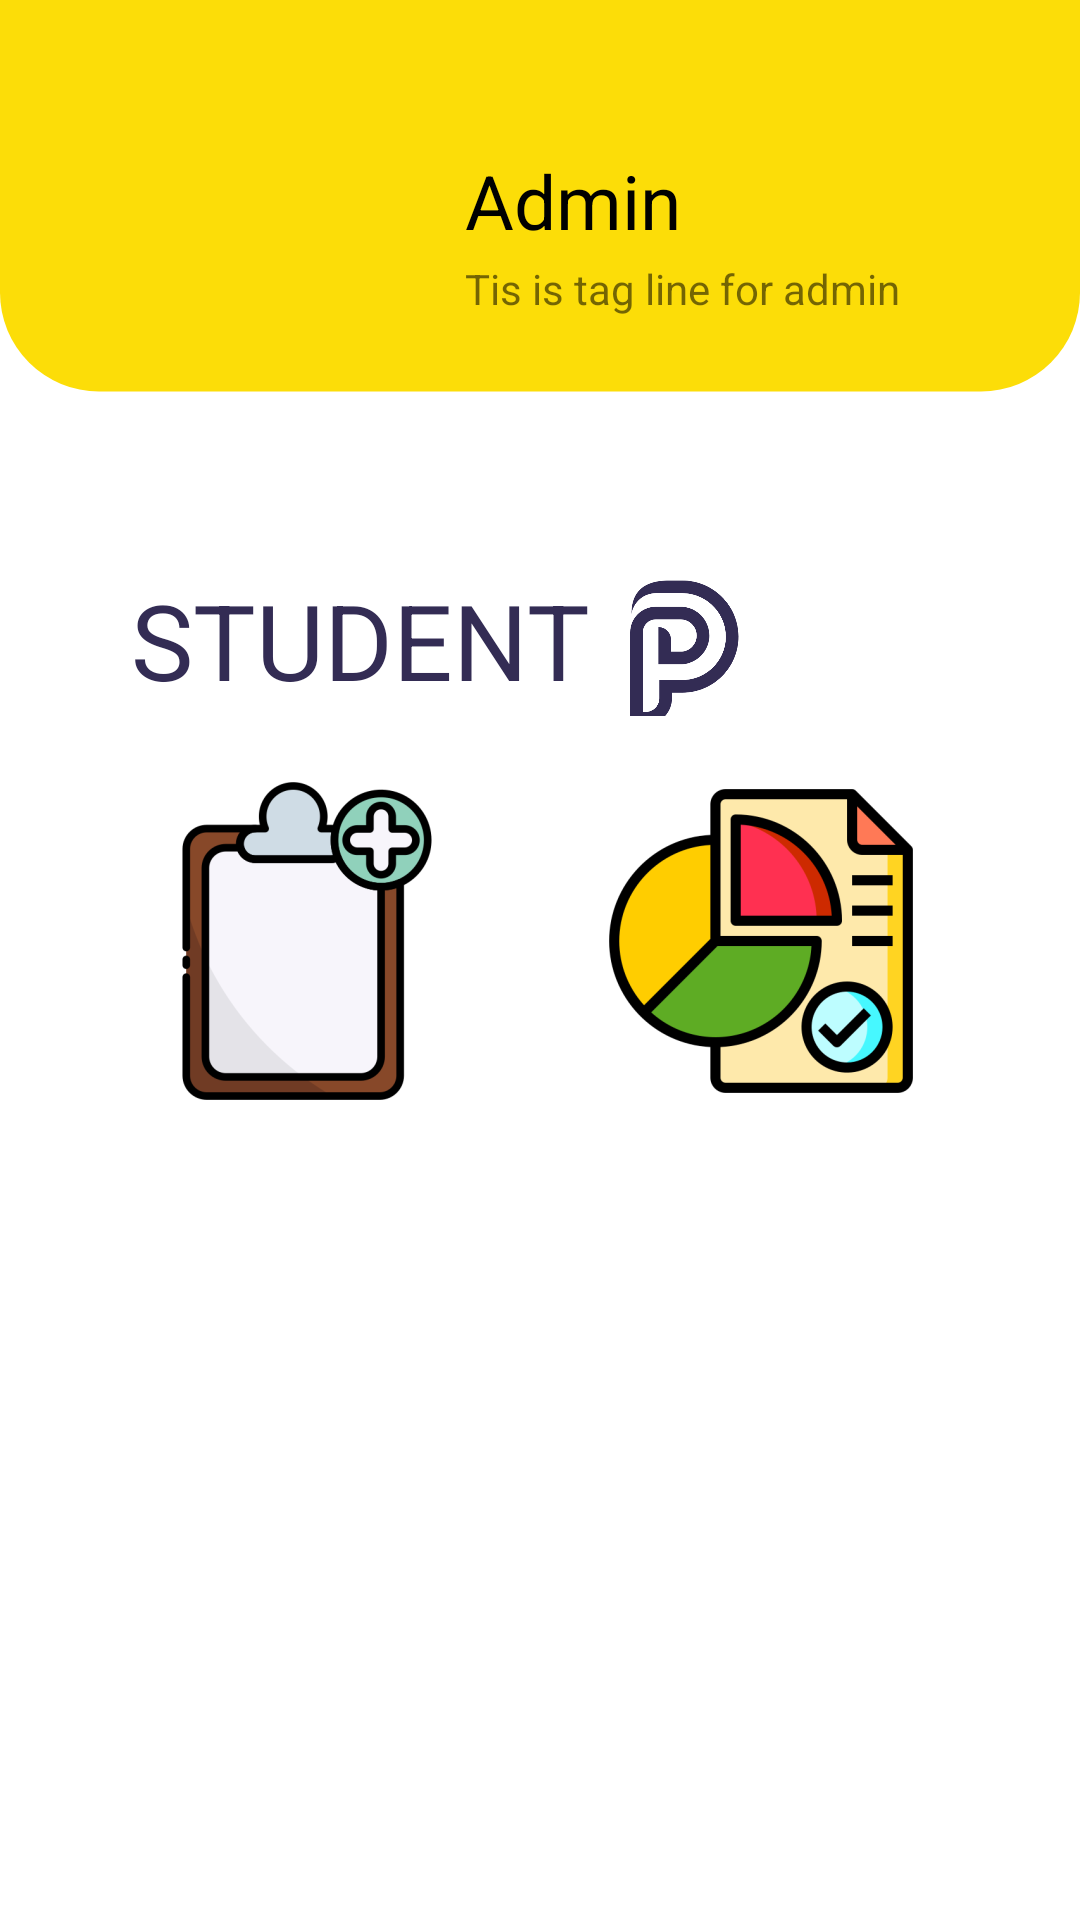

Icons on this 1080*1920 Android screen, each with its box as [left=x1, top=y1, right=x2, bottom=y2]:
create: [left=182, top=782, right=432, bottom=1100]
result: [left=609, top=789, right=913, bottom=1093]
